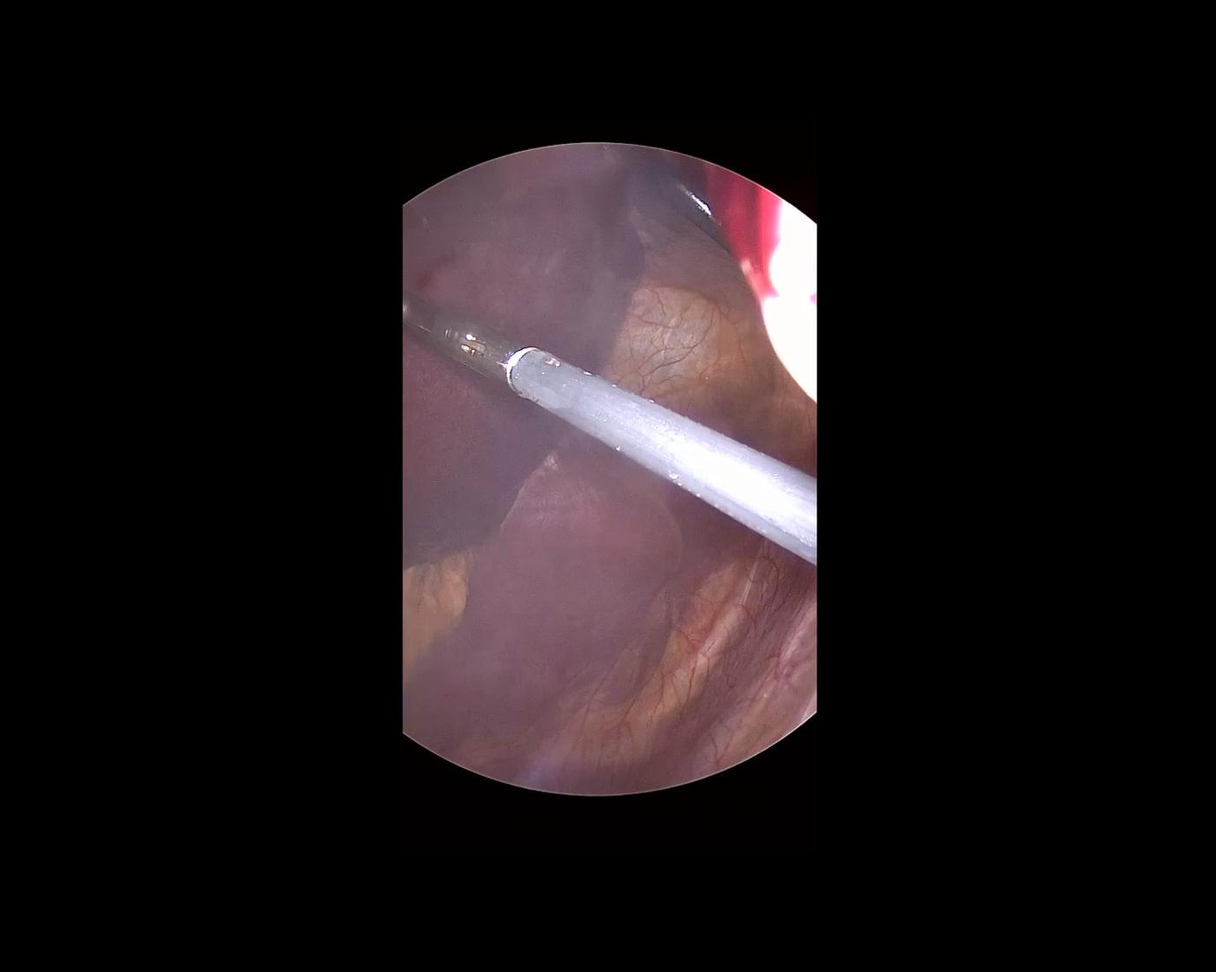Forceps: (368, 286, 848, 566)
Liver: (398, 142, 645, 568)
